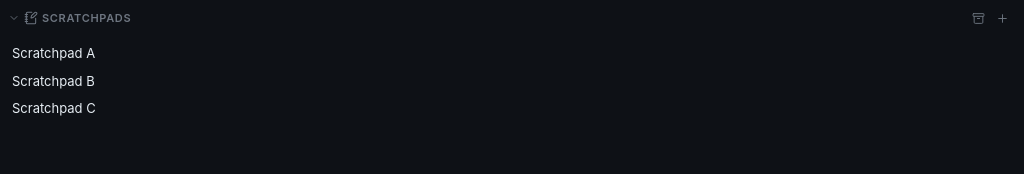
Test: ScratchpadSubsection › multi-select › toggles a selection with Cmd/Ctrl+click and shows the selection bar
Click the button "Scratchpad A".
click(54, 53)  # box x1=12 y1=44 x2=1016 y2=64
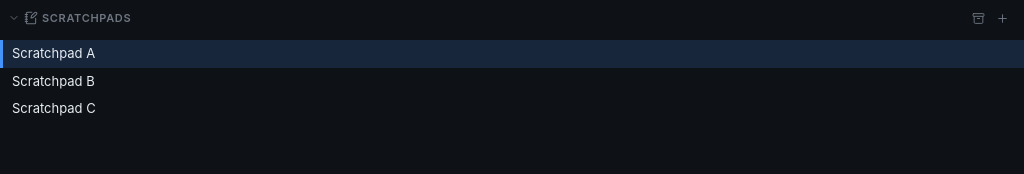
Click the button "Scratchpad C".
click(54, 108)  # box x1=12 y1=99 x2=1016 y2=118
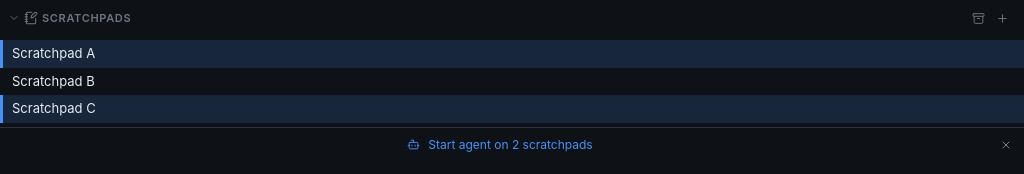
Now the button "Start agent on 2 scratchpads" is shown, box x1=12 y1=132 x2=988 y2=158
# Toggling one off drops the bar below 2.
Click the button "Scratchpad A".
click(54, 53)  # box x1=12 y1=44 x2=1016 y2=64
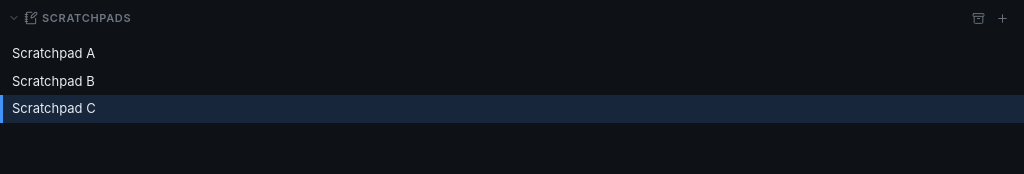
Now the button "Start agent on" is gone
